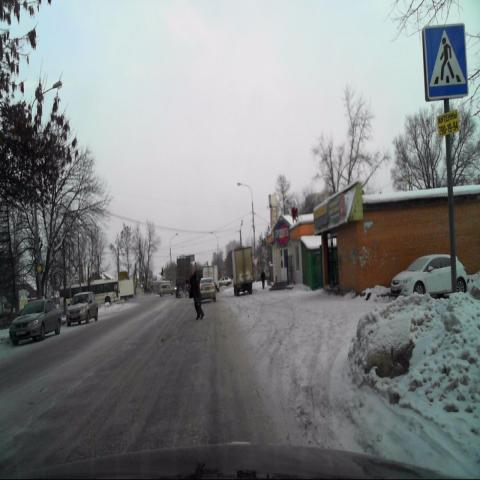5_19_1: (422, 23, 468, 100)
